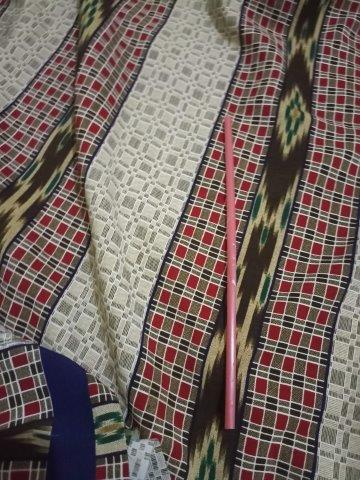sedotan: (224, 118, 234, 428)
